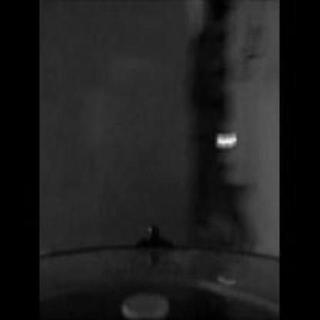other: (202, 120, 254, 158), (213, 259, 265, 291)
